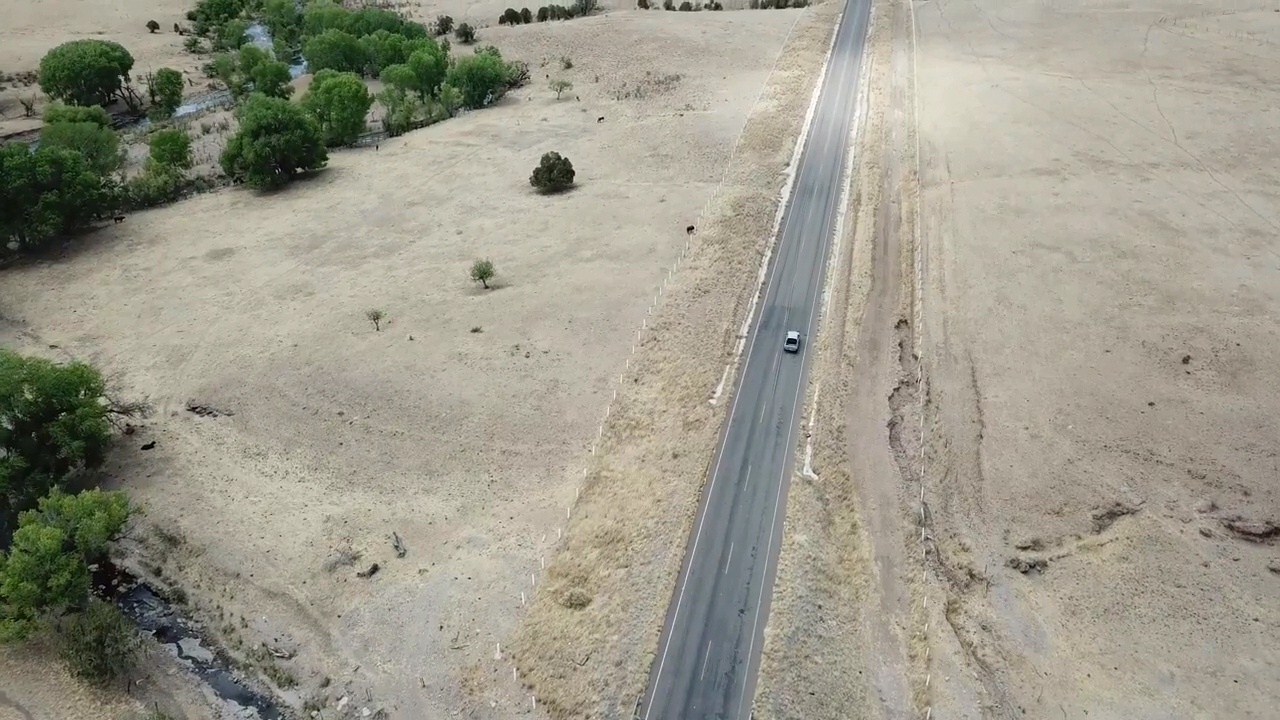araba: (782, 329, 803, 353)
